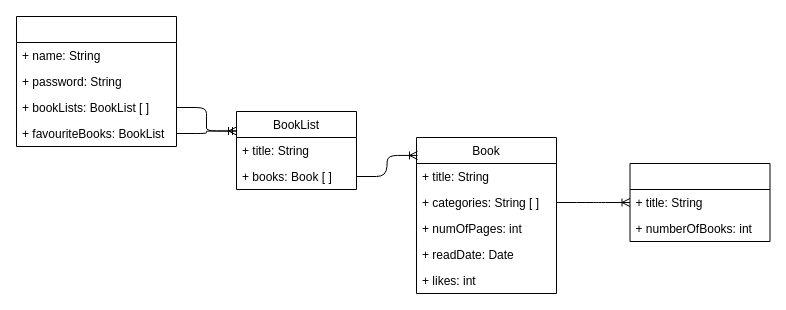
Image size: 786x310. Some labels were removed from this diagram. Each missing label, with the box of its shape:
Category: (629, 162, 770, 242)
User: (16, 16, 176, 146)
